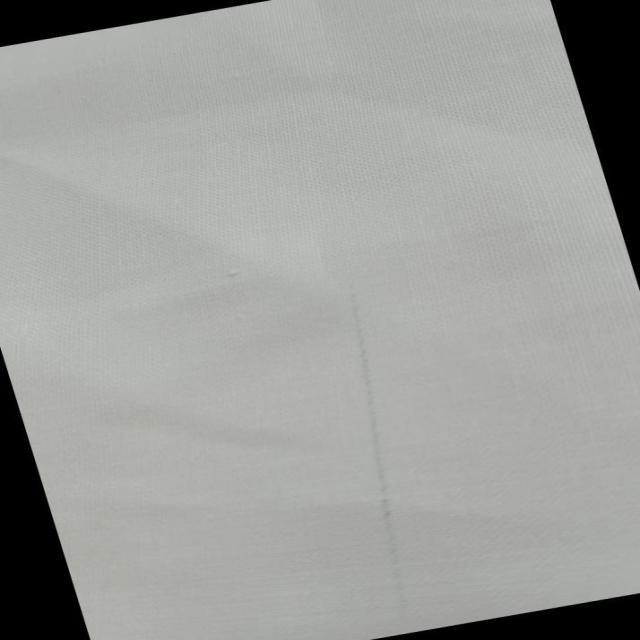contamination: (296, 285, 462, 623)
